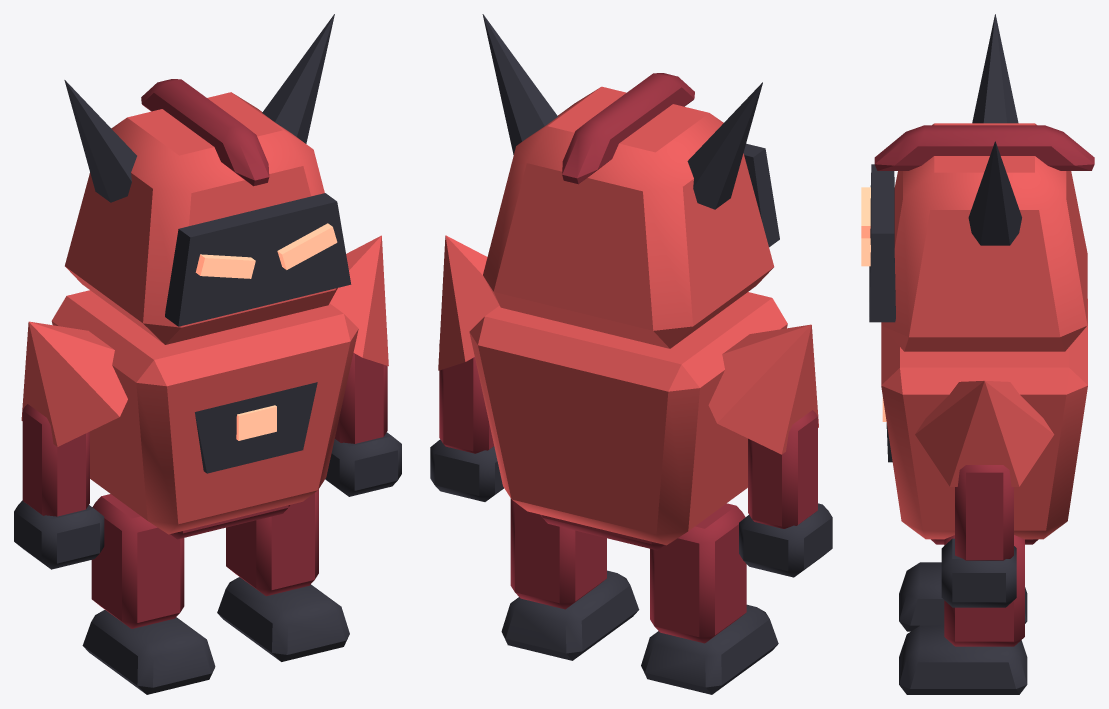
File: red_grunt.glb
3 renders of one model, left to right at view 1: azimuth 30°, elevation 25°; view 2: azimuth 150°, elevation 25°; view 3: azimuth 270°, elevation 25°, orthographic. The views are drawn at different scales.
Parts seen in each view (by area): view 1: head, torso, armL, legL, legR, armR; view 2: head, torso, armL, legL, legR, armR; view 3: head, torso, armR, legR, legL.
Part boxes in pixels (bbox=[...]): head: bbox=[64, 14, 351, 344]; torso: bbox=[51, 290, 358, 539]; armL: bbox=[14, 321, 127, 569]; legL: bbox=[82, 494, 215, 694]; legR: bbox=[217, 489, 349, 661]; armR: bbox=[325, 235, 401, 496]; head: bbox=[482, 14, 779, 348]; torso: bbox=[469, 292, 787, 550]; armL: bbox=[708, 324, 832, 577]; legL: bbox=[641, 503, 778, 694]; legR: bbox=[501, 498, 639, 660]; armR: bbox=[430, 235, 503, 501]; head: bbox=[861, 14, 1094, 351]; torso: bbox=[881, 299, 1087, 544]; armR: bbox=[915, 380, 1054, 607]; legR: bbox=[899, 535, 1027, 694]; legL: bbox=[899, 562, 1027, 631].
Size of the model in its own units: 0.75 by 1.17 by 0.4352.
